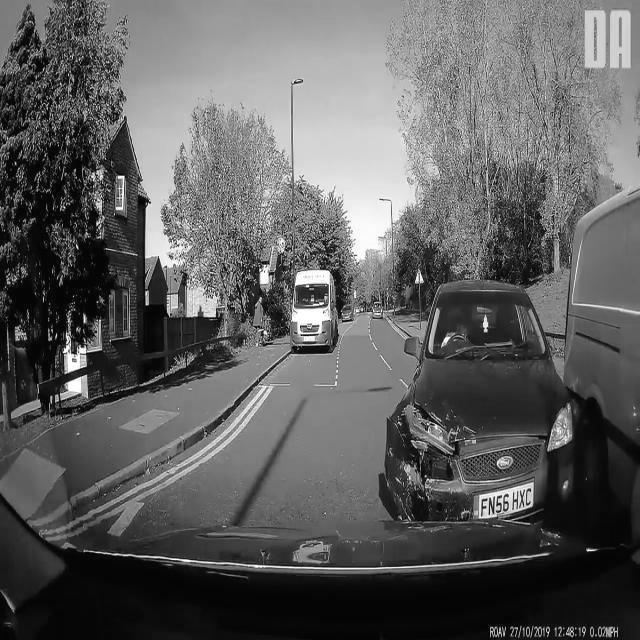accident: (382, 182, 640, 550)
non-accident: (290, 270, 354, 352)
